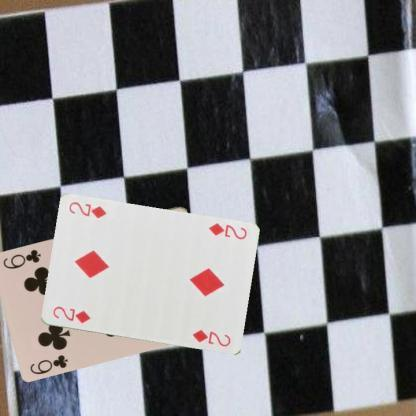2d: (50, 304, 92, 325), (206, 221, 248, 241)
6c: (28, 352, 70, 376)
